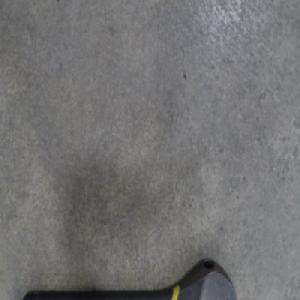AdjustableWrench: (24, 259, 235, 300)
